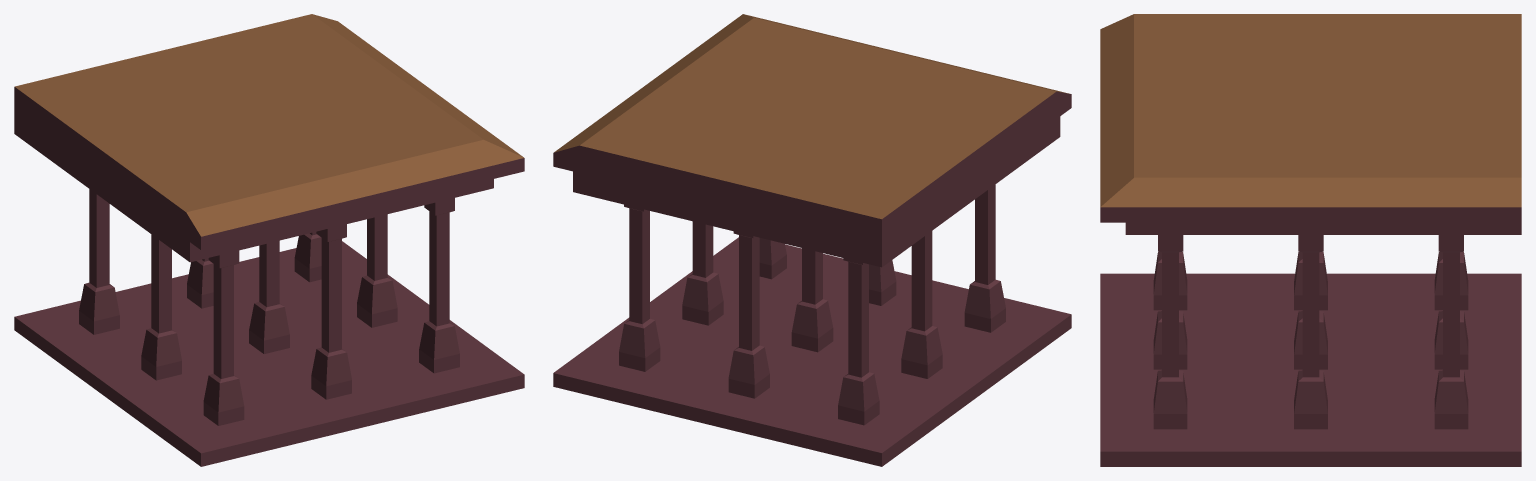
Rendered from hindu-pillars-edge.fbx.
3 renders of one model, left to right at view 1: azimuth 30°, elevation 25°; view 2: azimuth 150°, elevation 25°; view 3: azimuth 270°, elevation 25°, orthographic. The views are drawn at different scales.
Visible parts, largest first — view 1: hindu-pillars-edge; view 2: hindu-pillars-edge; view 3: hindu-pillars-edge.
Boxes of the visible parts, x1,y1,x2,y2 form: hindu-pillars-edge: (14, 14, 524, 466); hindu-pillars-edge: (553, 14, 1071, 466); hindu-pillars-edge: (1100, 14, 1521, 466).
Size of the model in its own units: 5 by 3.6 by 5.
